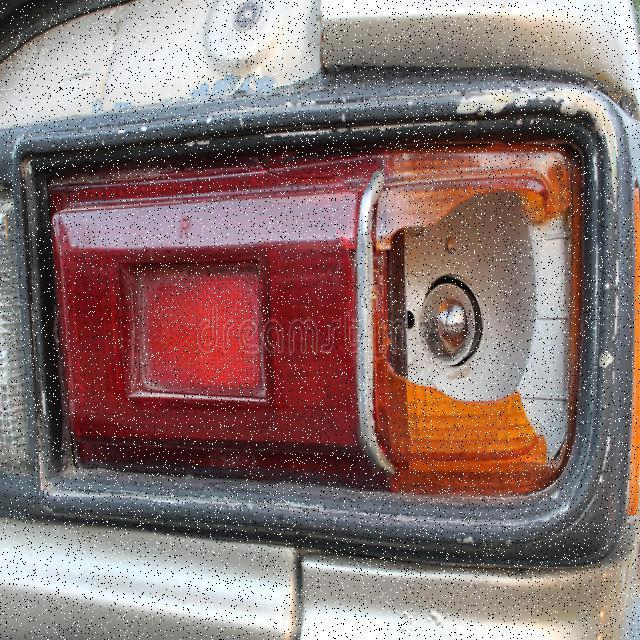Signlight-Damage: (344, 79, 618, 561)
